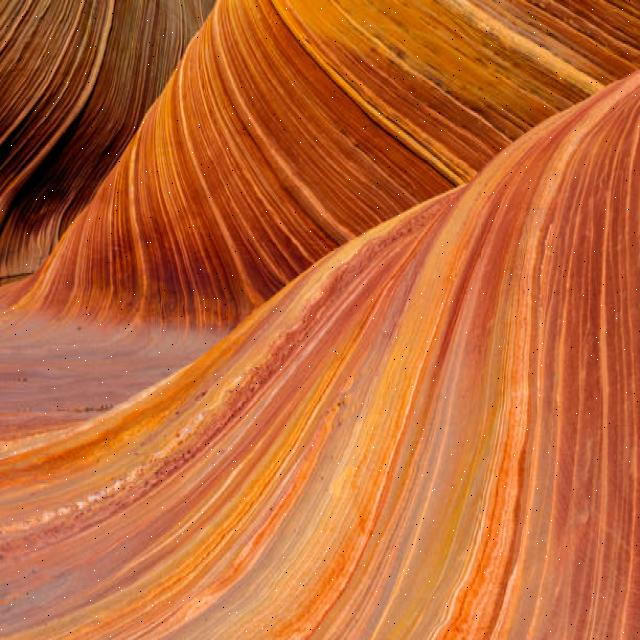Sedimentary: (1, 1, 638, 640)
